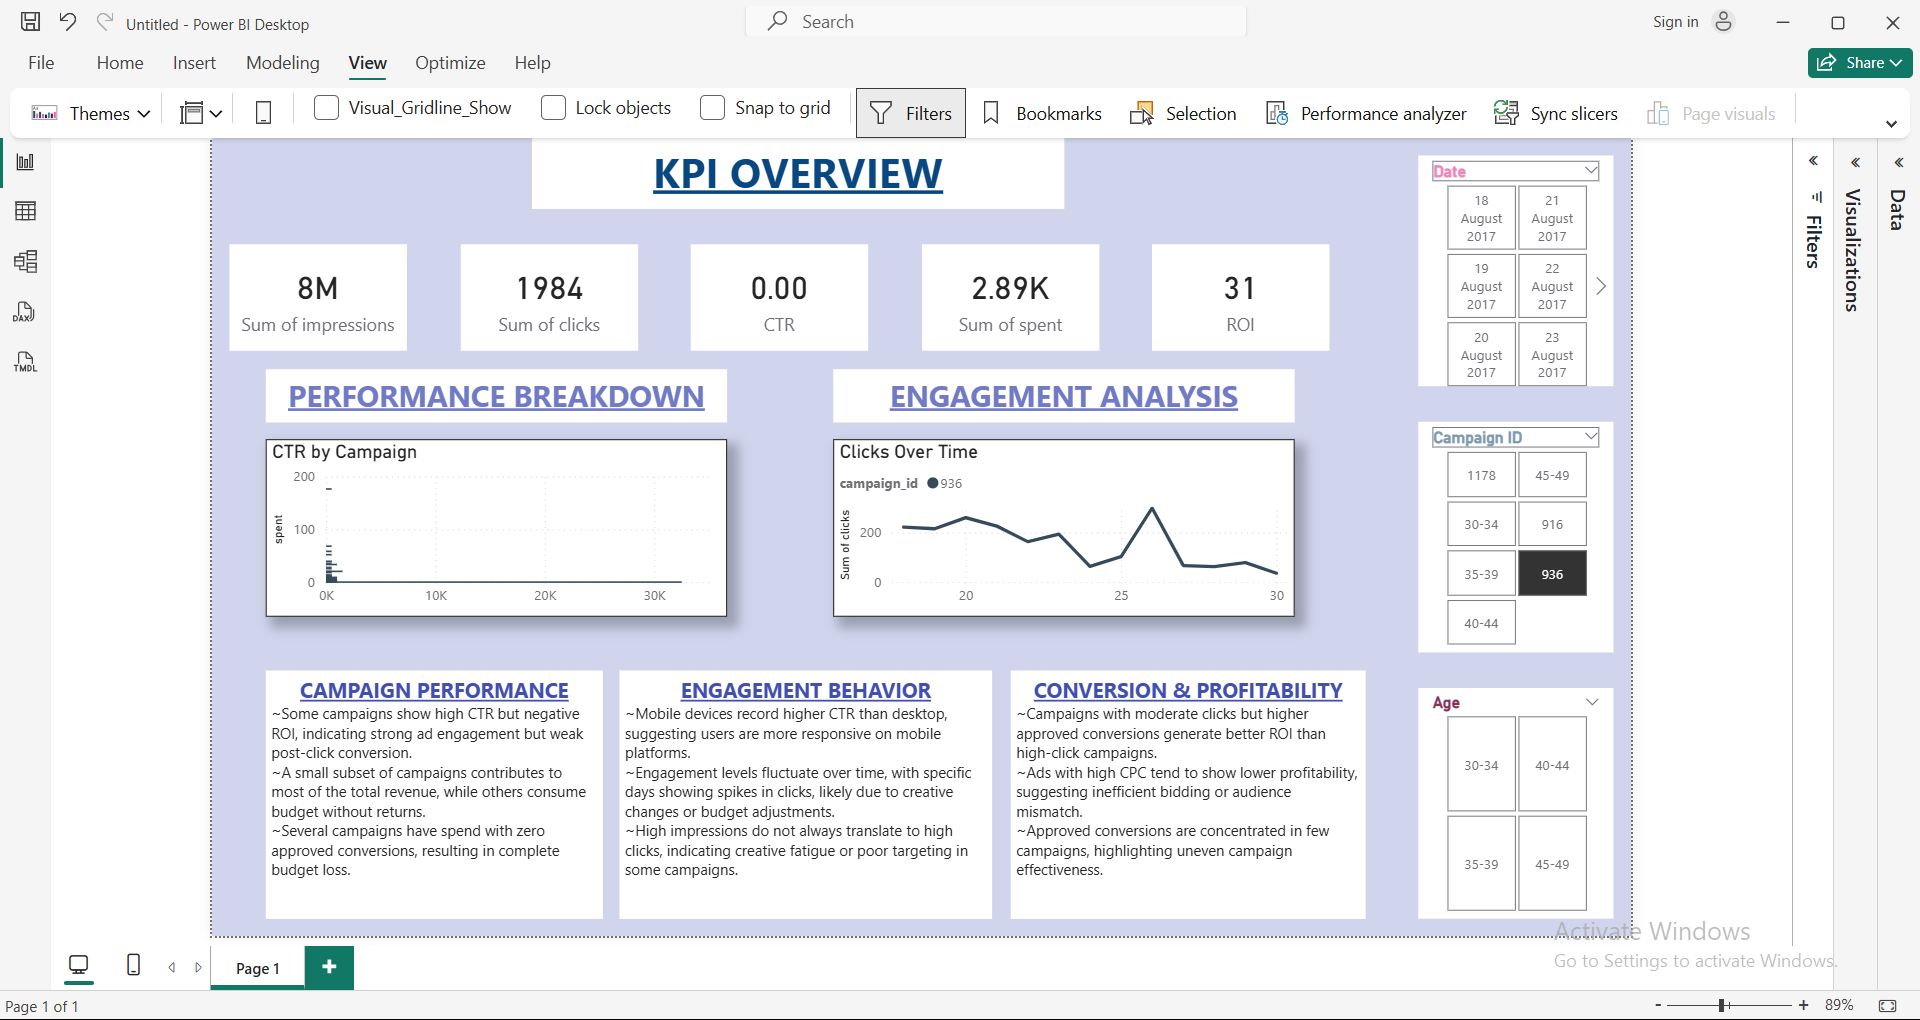

The dashboard page shown, as its layout file describes it:
{"tool":"powerbi","page":{"name":"Page 1","canvas":[1280,720],"ordinal":0},"visuals":[{"type":"textbox","box":[288,0,480,64],"z":0},{"type":"card","fields":{"Values":["Sum(data.impressions)"]},"box":[16,96,160,96],"z":1},{"type":"card","fields":{"Values":["Sum(data.clicks)"]},"box":[224,96,160,96],"z":2},{"type":"card","fields":{"Values":["data.CTR"]},"box":[432,96,160,96],"z":3},{"type":"card","fields":{"Values":["Sum(data.spent)"]},"box":[640,96,160,96],"z":4},{"type":"card","fields":{"Values":["data.ROI"]},"box":[848,96,160,96],"z":5},{"type":"textbox","box":[48,208,416,48],"z":6},{"type":"clusteredBarChart","title":"CTR by Campaign","fields":{"Category":["data.spent"],"Y":["Sum(data.revenue)"]},"box":[48,272,416,160],"z":7},{"type":"textbox","box":[560,208,416,48],"z":8},{"type":"lineChart","title":"Clicks Over Time","fields":{"Category":["data.reporting_start.Variation.Date Hierarchy.Day"],"Y":["Sum(data.clicks)"],"Series":["data.campaign_id"]},"box":[560,272,416,160],"z":9},{"type":"slicer","fields":{"Values":["data.reporting_start"]},"box":[1088,16,176,208],"z":10},{"type":"slicer","fields":{"Values":["data.campaign_id"]},"box":[1088,256,176,208],"z":11},{"type":"slicer","fields":{"Values":["data.age"]},"box":[1088,496,176,208],"z":12},{"type":"textbox","box":[48,480,304,224],"z":13},{"type":"textbox","box":[368,480,336,224],"z":14},{"type":"textbox","box":[720,480,320,224],"z":15}]}

Visuals, with their boxes on the page's 1280x720 design canvas (x1, y1, x2, y2). These are canvas units, not pixel positions in the 1920x1020 screenshot, which may show the page scaled, cropped or inside an application window:
textbox: rect(288, 0, 768, 64)
card - Sum(data.impressions): rect(16, 96, 176, 192)
card - Sum(data.clicks): rect(224, 96, 384, 192)
card - data.CTR: rect(432, 96, 592, 192)
card - Sum(data.spent): rect(640, 96, 800, 192)
card - data.ROI: rect(848, 96, 1008, 192)
textbox: rect(48, 208, 464, 256)
"CTR by Campaign" clusteredBarChart: rect(48, 272, 464, 432)
textbox: rect(560, 208, 976, 256)
"Clicks Over Time" lineChart: rect(560, 272, 976, 432)
slicer - data.reporting_start: rect(1088, 16, 1264, 224)
slicer - data.campaign_id: rect(1088, 256, 1264, 464)
slicer - data.age: rect(1088, 496, 1264, 704)
textbox: rect(48, 480, 352, 704)
textbox: rect(368, 480, 704, 704)
textbox: rect(720, 480, 1040, 704)
